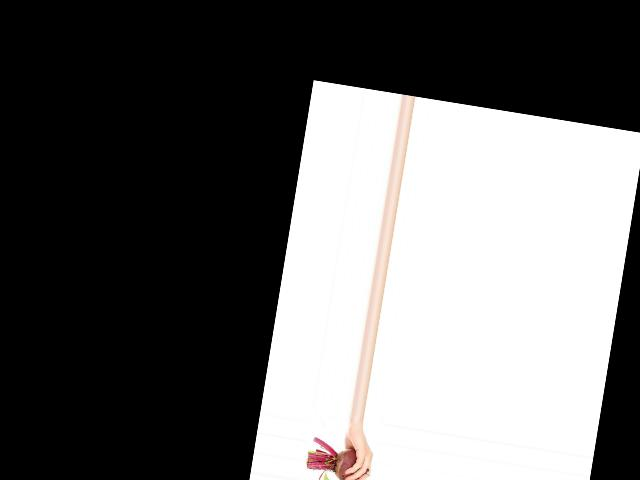beet: (303, 436, 373, 480)
